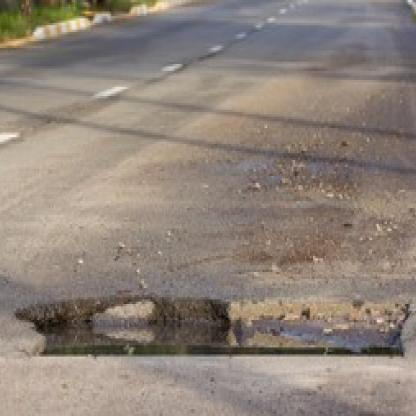pothole: (15, 293, 412, 361)
